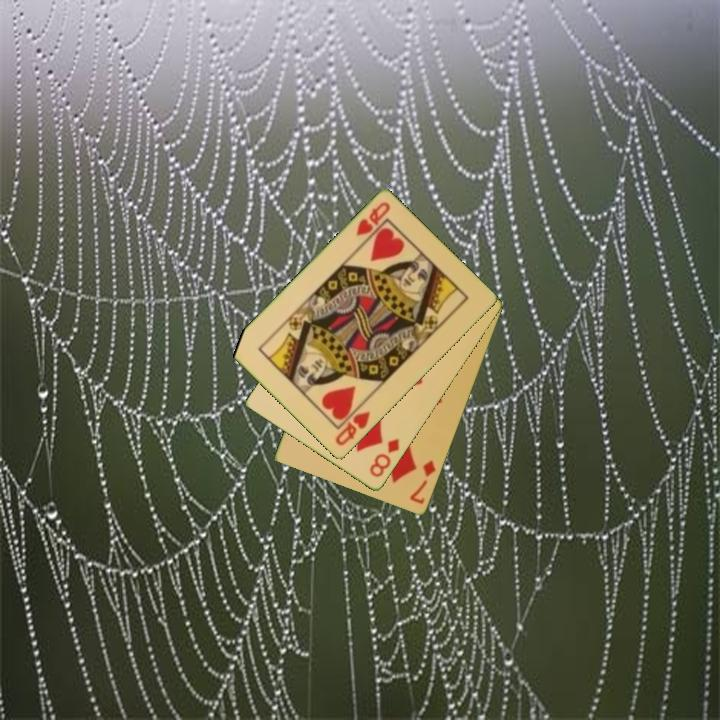7d: (406, 457, 439, 507)
8d: (366, 435, 402, 481)
Qh: (332, 408, 373, 449), (352, 199, 393, 239)
